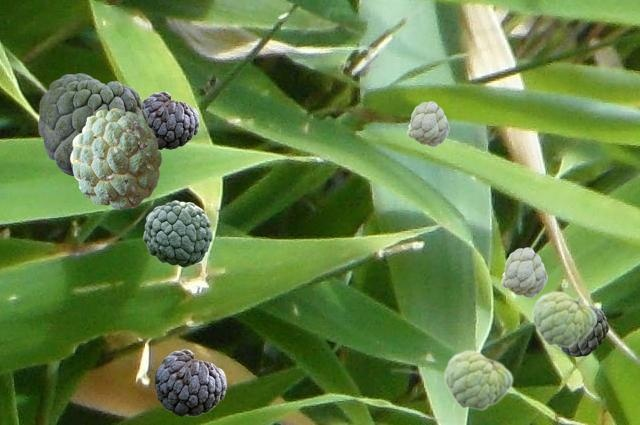atis: (38, 73, 147, 176), (70, 108, 160, 208), (154, 349, 225, 415), (143, 200, 211, 266), (443, 349, 512, 410), (531, 290, 596, 347), (143, 91, 198, 148), (558, 306, 607, 355), (501, 247, 546, 296), (407, 101, 448, 145)
